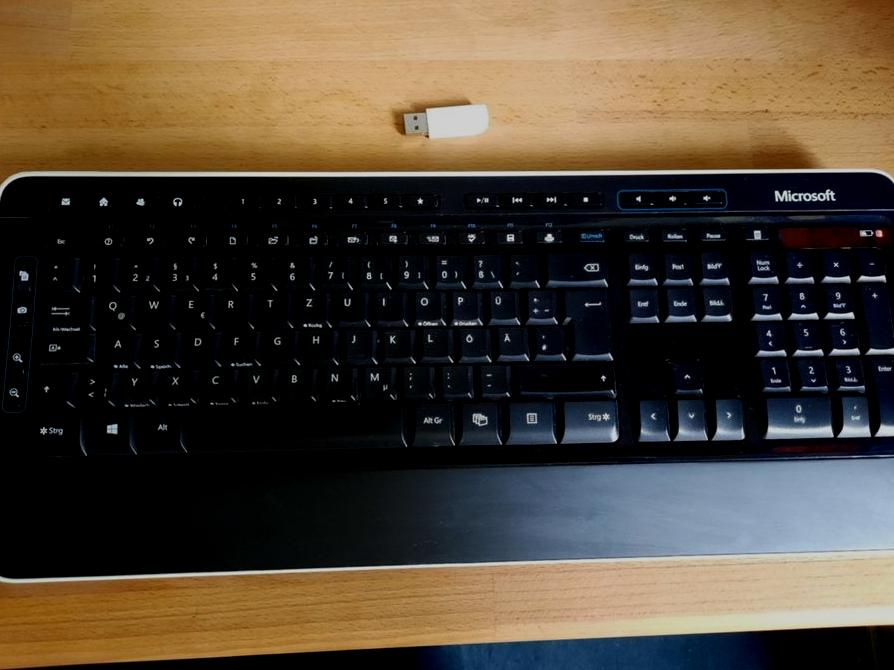0: (431, 250, 462, 283)
1: (81, 253, 112, 289)
2: (121, 253, 153, 288)
3: (161, 252, 193, 288)
4: (201, 252, 231, 286)
5: (239, 251, 270, 287)
6: (278, 251, 309, 285)
7: (317, 250, 349, 286)
8: (355, 250, 387, 286)
9: (392, 250, 424, 284)
a: (102, 329, 134, 364)
accent: (505, 249, 536, 281)
ae: (493, 323, 526, 355)
alt-left: (138, 405, 181, 452)
altgr-right: (409, 399, 452, 444)
b: (280, 364, 314, 400)
c: (200, 365, 235, 401)
caret: (41, 254, 73, 289)
comma: (399, 361, 428, 396)
d: (183, 328, 216, 364)
del: (544, 248, 606, 280)
e: (177, 289, 208, 326)
enter: (560, 285, 609, 355)
f: (224, 327, 255, 361)
g: (263, 326, 294, 361)
h: (302, 326, 333, 360)
hash: (530, 322, 562, 355)
i: (372, 288, 402, 319)
j: (341, 325, 371, 361)
k: (380, 325, 409, 357)
keyboard: (1, 162, 894, 476)
l: (418, 324, 448, 356)
less: (77, 367, 114, 404)
m: (359, 362, 392, 397)
minus: (475, 361, 506, 393)
n: (320, 363, 352, 400)
o: (409, 287, 441, 320)
oe: (456, 324, 487, 356)
p: (448, 287, 477, 319)
plus: (523, 285, 553, 317)
point: (437, 361, 469, 394)
q: (96, 290, 130, 327)
r: (215, 289, 247, 325)
s: (143, 329, 175, 364)
shift-left: (32, 368, 70, 405)
shift-lock: (35, 329, 96, 364)
shift-right: (514, 359, 611, 391)
space: (189, 400, 404, 452)
ss: (468, 250, 500, 282)
strg-left: (26, 408, 81, 455)
strg-right: (559, 396, 619, 442)
t: (255, 289, 287, 322)
tab: (39, 291, 89, 326)
u: (333, 288, 364, 321)
ue: (484, 286, 515, 319)
v: (241, 364, 274, 399)
w: (137, 289, 169, 327)
x: (160, 366, 193, 400)
y: (120, 367, 153, 402)
z: (294, 289, 326, 322)
